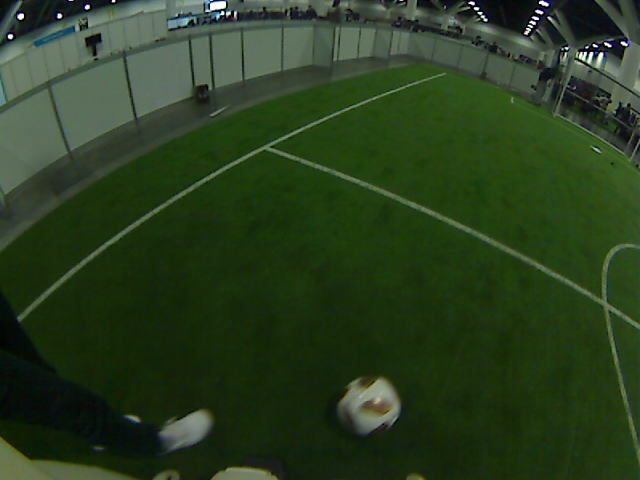ball: (348, 385, 388, 425)
goalpost: (550, 75, 558, 119), (624, 126, 633, 161)
